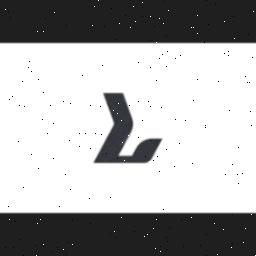l: (86, 84, 162, 176)
